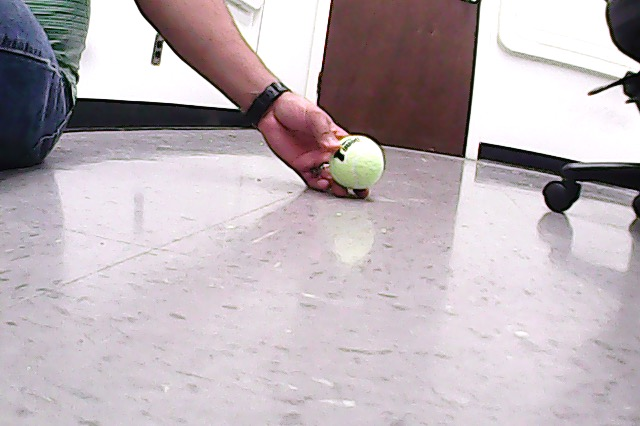ball: (330, 135, 384, 188)
